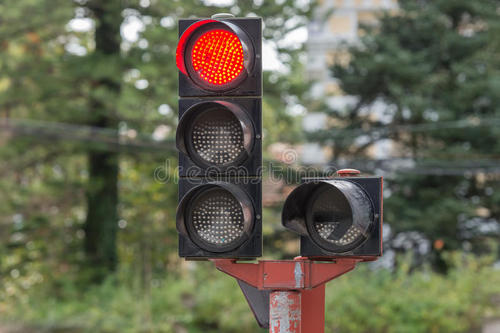red: (172, 12, 265, 258)
